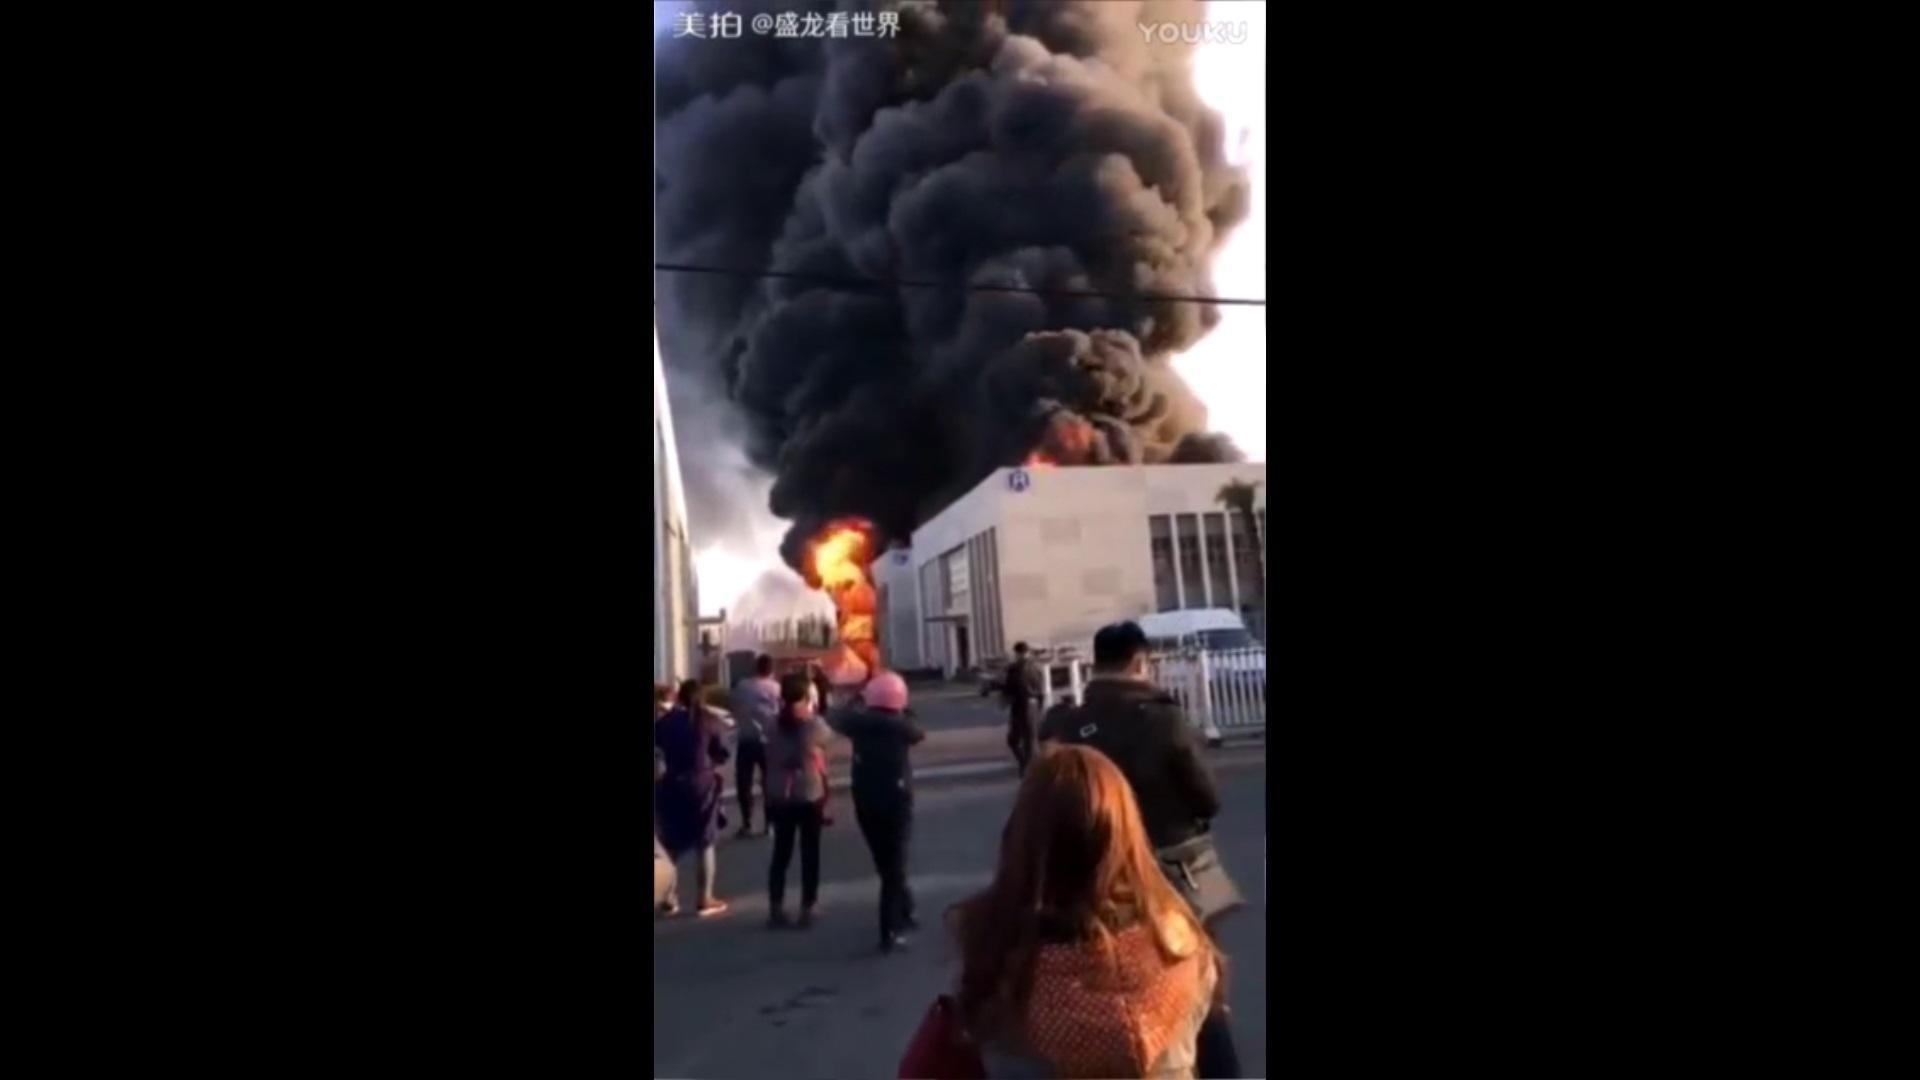fire: (811, 524, 878, 636)
